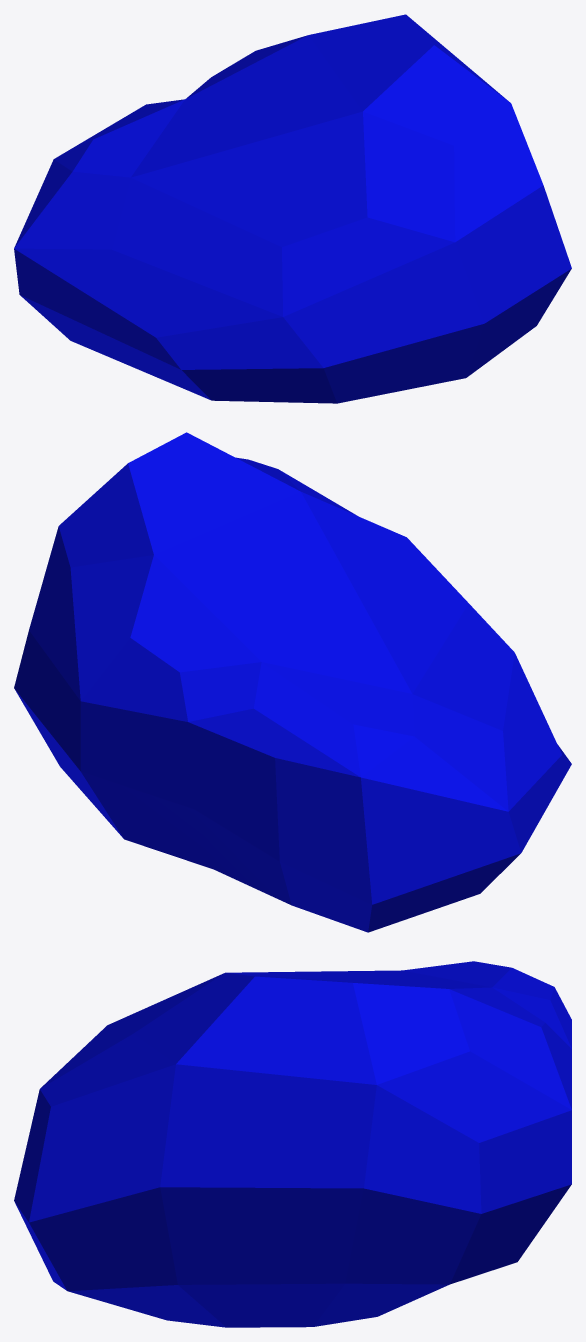
File: SM_Big_RoundStone2.fbx
3 views of the same model, one above another, from view 1: azimuth 30°, elevation 25°; view 2: azimuth 150°, elevation 25°; view 3: azimuth 270°, elevation 25° (orthographic). The views are drawn at different scales.
Parts seen in each view (by area): view 1: SM_Big_RoundStone2; view 2: SM_Big_RoundStone2; view 3: SM_Big_RoundStone2.
Boxes of the visible parts, x1,y1,x2,y2 form: SM_Big_RoundStone2: (14,14,571,403); SM_Big_RoundStone2: (14,432,571,932); SM_Big_RoundStone2: (14,961,571,1327).
Size of the model in its own units: 191 by 123 by 171.
